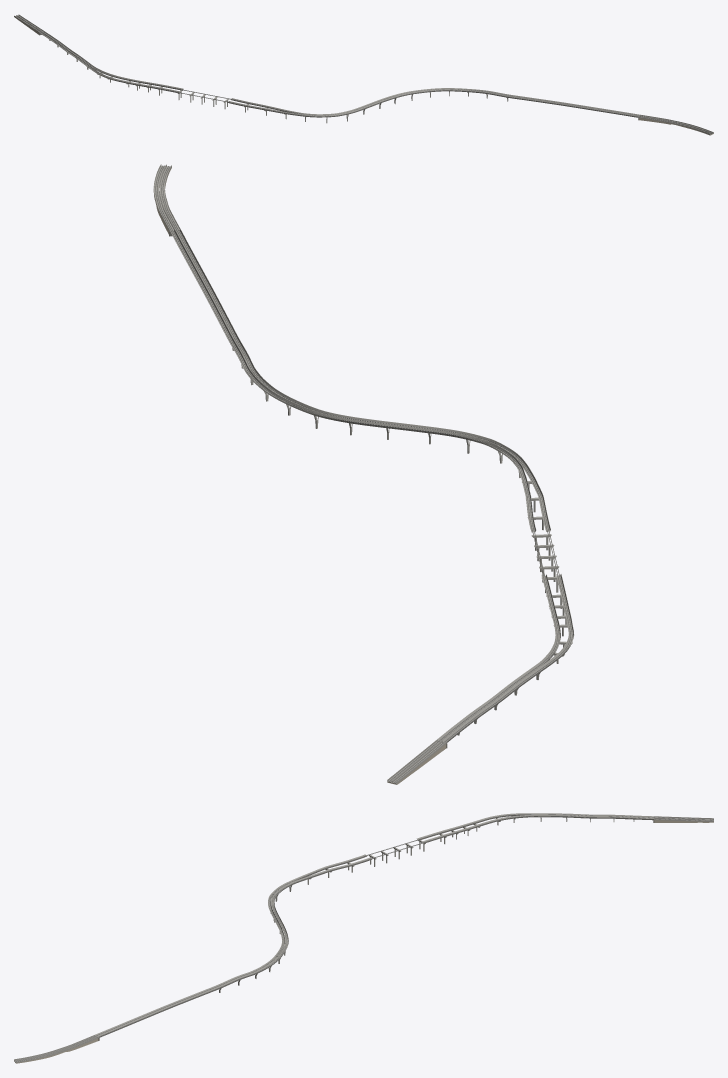
File: br_t127_davies_1.gltf
3 renders of one model, top to bottom at view 1: azimuth 30°, elevation 25°; view 2: azimuth 150°, elevation 25°; view 3: azimuth 270°, elevation 25°, orthographic. The views are drawn at different scales.
Visible parts, largest first — view 1: br_t127_davies_1; view 2: br_t127_davies_1; view 3: br_t127_davies_1.
Boxes of the visible parts, x1,y1,x2,y2 form: br_t127_davies_1: [14, 14, 713, 135]; br_t127_davies_1: [153, 164, 574, 784]; br_t127_davies_1: [14, 813, 713, 1063].
Bounding box in the file's own units: 840 × 22.33 × 1036.
